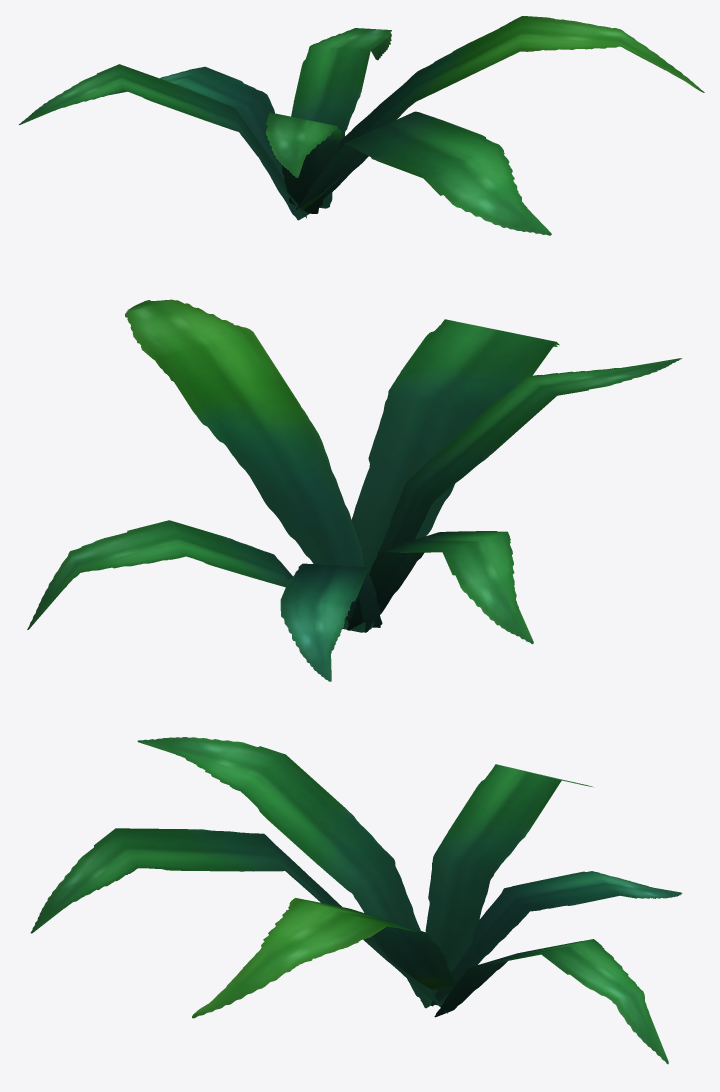
The model's file is taoyuanzhen_huacao_12.FBX.
3 renders of one model, top to bottom at view 1: azimuth 30°, elevation 25°; view 2: azimuth 150°, elevation 25°; view 3: azimuth 270°, elevation 25°, orthographic. The views are drawn at different scales.
Parts seen in each view (by area): view 1: taoyuanzhen_huacao_12; view 2: taoyuanzhen_huacao_12; view 3: taoyuanzhen_huacao_12.
Part boxes in pixels (left/top/right/bottom): taoyuanzhen_huacao_12: left=19, top=16, right=704, bottom=235; taoyuanzhen_huacao_12: left=27, top=299, right=681, bottom=681; taoyuanzhen_huacao_12: left=30, top=737, right=682, bottom=1064.
Bounding box in the file's own units: 164 × 51.13 × 160.
